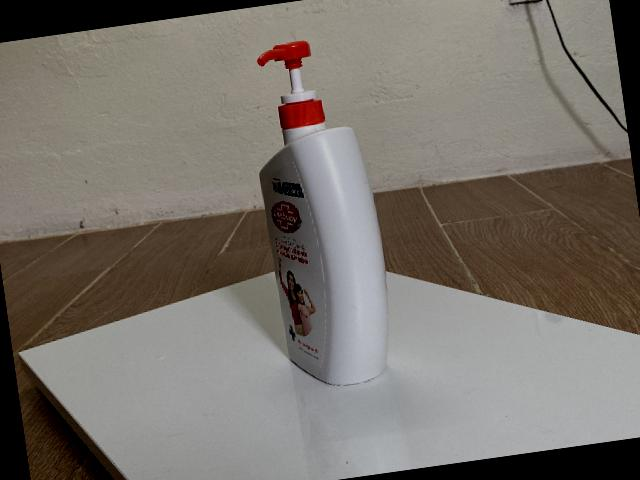life-buoy: (257, 41, 389, 388)
